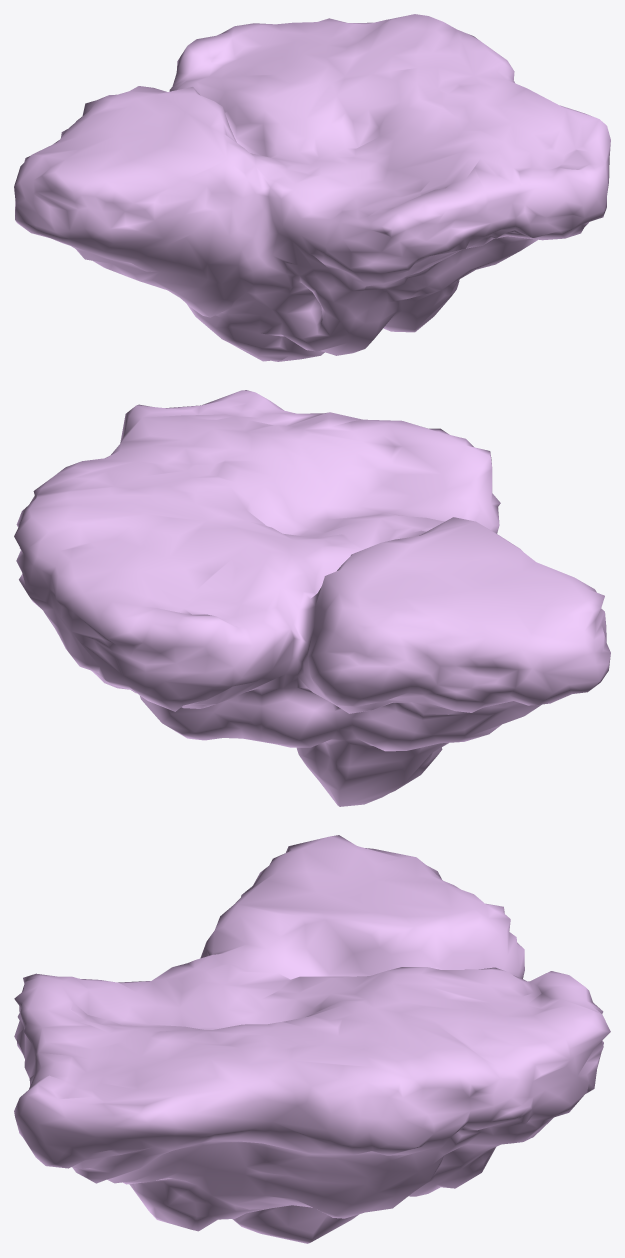
File: lava_wall_06.FBX
The picture shows the model from 3 angles, top to bottom: view 1: azimuth 30°, elevation 25°; view 2: azimuth 150°, elevation 25°; view 3: azimuth 270°, elevation 25°; orthographic projection. The views are drawn at different scales.
Parts seen in each view (by area): view 1: lava_wall_06_LOD0; view 2: lava_wall_06_LOD0; view 3: lava_wall_06_LOD0.
Part boxes in pixels (bbox=[...]): lava_wall_06_LOD0: bbox=[14, 14, 610, 361]; lava_wall_06_LOD0: bbox=[14, 390, 610, 806]; lava_wall_06_LOD0: bbox=[14, 835, 610, 1243].
Size of what is drawn, in the model's own units: 245 by 117 by 211.
